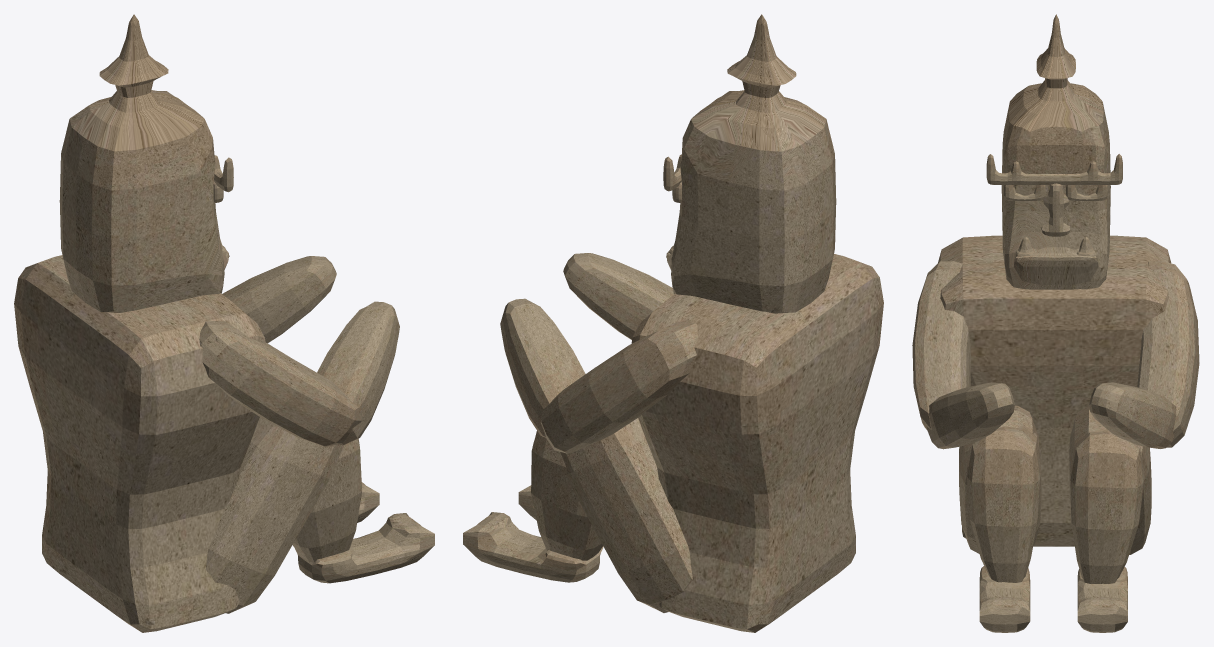
The model's file is statue_lanky_diamond.glb.
3 renders of one model, left to right at view 1: azimuth 30°, elevation 25°; view 2: azimuth 150°, elevation 25°; view 3: azimuth 270°, elevation 25°, orthographic. The views are drawn at different scales.
Visible parts, largest first — view 1: Body, head, legs_upper, arm_upper_R.002, arm_upper_R.003, feet, arm_upper_R.001, legs_lower; view 2: Body, head, legs_upper, arm_upper_R, arm_upper_R.001, arm_upper_R.003, feet, legs_lower; view 3: Body, head, legs_lower, arm_upper_R, arm_upper_R.002, feet, arm_upper_R.001, arm_upper_R.003, legs_upper, eyebrow, nose, eye_L (+1 smaller).
Boxes of the visible parts, bbox=[...] form: Body: bbox=[14, 255, 265, 632]; head: bbox=[59, 14, 229, 312]; legs_upper: bbox=[205, 417, 343, 613]; arm_upper_R.002: bbox=[199, 320, 361, 446]; arm_upper_R.003: bbox=[317, 301, 399, 445]; feet: bbox=[295, 482, 434, 583]; arm_upper_R.001: bbox=[222, 256, 336, 343]; legs_lower: bbox=[292, 439, 361, 562]; Body: bbox=[631, 254, 883, 632]; head: bbox=[666, 14, 836, 313]; legs_upper: bbox=[560, 418, 692, 612]; arm_upper_R: bbox=[540, 321, 697, 453]; arm_upper_R.001: bbox=[500, 298, 585, 437]; arm_upper_R.003: bbox=[563, 253, 673, 339]; feet: bbox=[463, 485, 603, 582]; legs_lower: bbox=[531, 431, 602, 560]; Body: bbox=[938, 235, 1171, 546]; head: bbox=[1001, 14, 1110, 289]; legs_lower: bbox=[966, 424, 1144, 583]; arm_upper_R: bbox=[1137, 261, 1199, 447]; arm_upper_R.002: bbox=[912, 261, 970, 429]; feet: bbox=[979, 566, 1127, 632]; arm_upper_R.001: bbox=[1089, 382, 1176, 448]; arm_upper_R.003: bbox=[926, 382, 1014, 449]; legs_upper: bbox=[959, 405, 1151, 554]; eyebrow: bbox=[986, 154, 1122, 184]; nose: bbox=[1041, 183, 1070, 236]; eye_L: bbox=[1003, 185, 1045, 200].
Size of the model in its own units: 5.51 by 9.58 by 4.84.
1 material, 1 textured.
